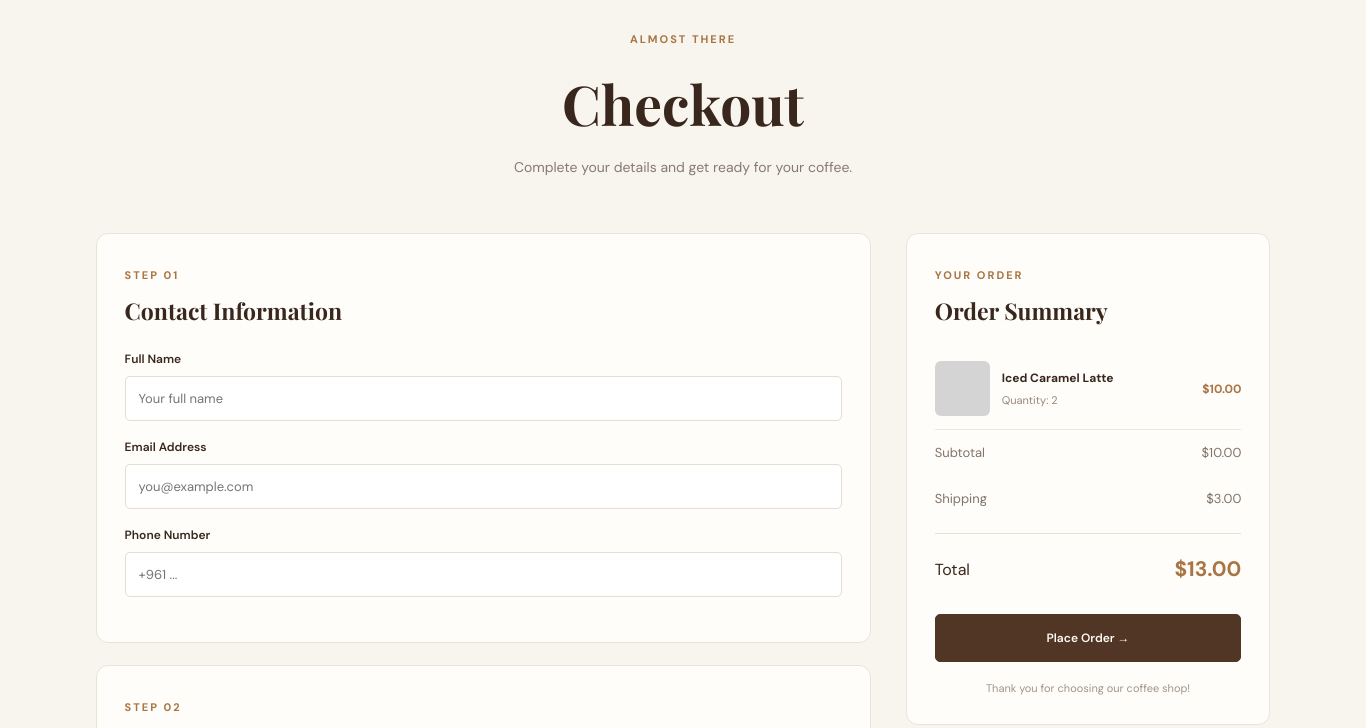
Test: Checkout validation › shows an error next to every field when the form is empty, and does not submit
Click the button "Place Order →" at (1088, 638), box top-left (935, 614), bottom-right (1241, 662)
(page scrolled)
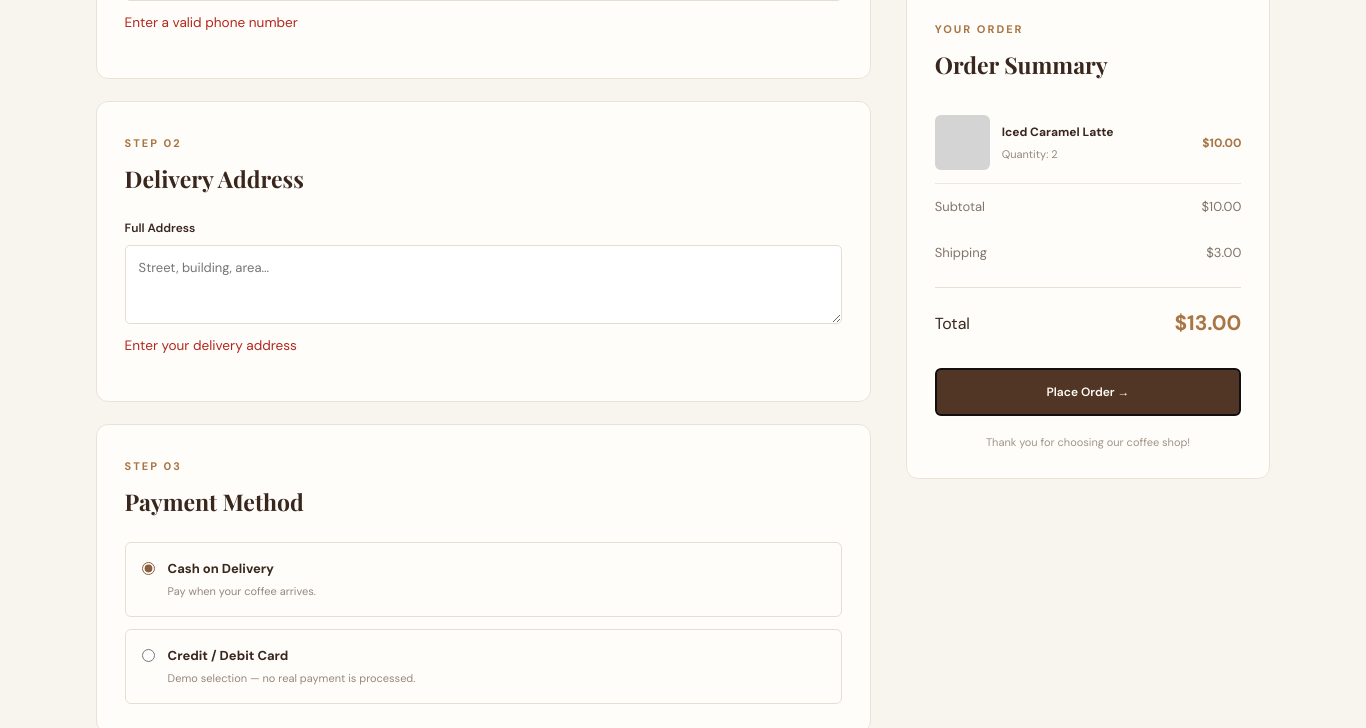
expect the text "Enter a valid phone number" is shown: met, box top-left (125, 14), bottom-right (298, 31)
expect the text "Enter your delivery address" is shown: met, box top-left (125, 337), bottom-right (297, 354)
